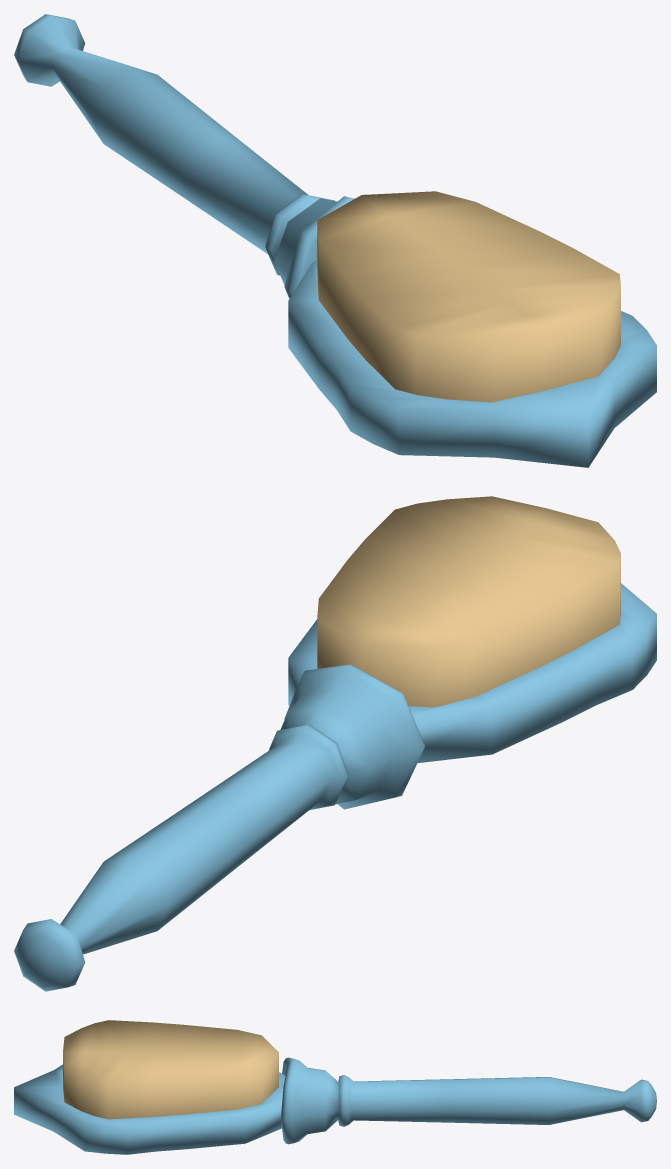
File: props_HairBrush.fbx
3 views of the same model, one above another, from view 1: azimuth 30°, elevation 25°; view 2: azimuth 150°, elevation 25°; view 3: azimuth 270°, elevation 25° (orthographic). The views are drawn at different scales.
Visible parts, largest first — view 1: HairBrush; view 2: HairBrush; view 3: HairBrush.
Boxes of the visible parts, x1,y1,x2,y2 form: HairBrush: [14, 14, 656, 467]; HairBrush: [14, 496, 656, 991]; HairBrush: [14, 1020, 656, 1154].
Size of the model in its own units: 25.41 by 85.84 by 13.37.
